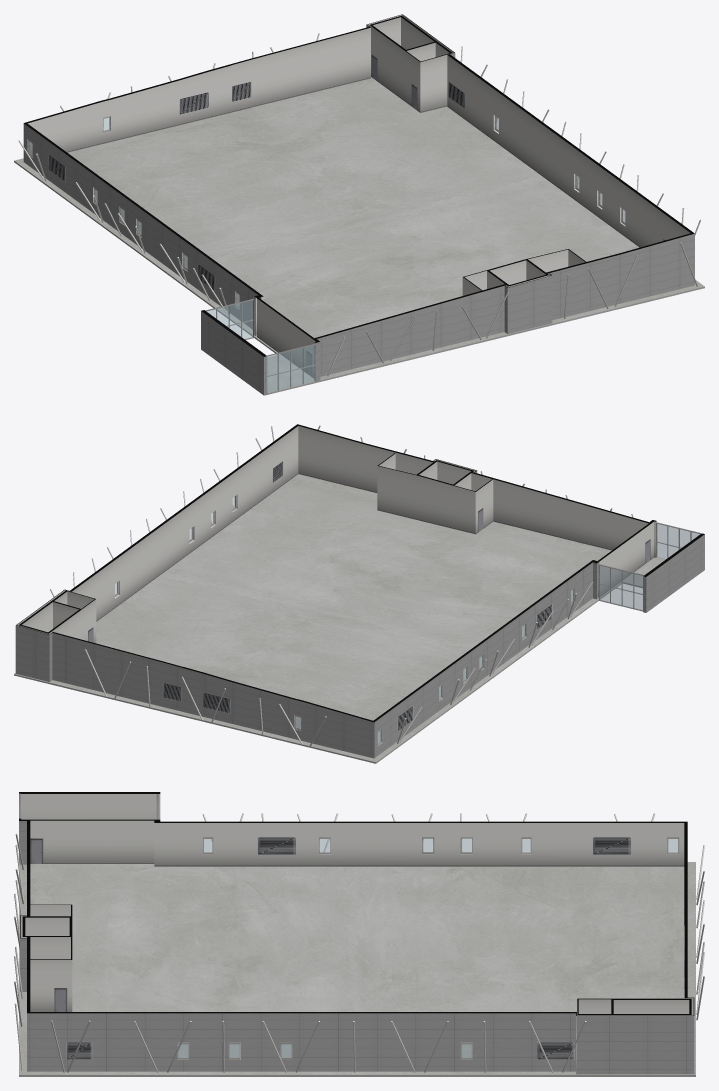
The picture shows the model from 3 angles, top to bottom: view 1: azimuth 30°, elevation 25°; view 2: azimuth 150°, elevation 25°; view 3: azimuth 270°, elevation 25°; orthographic projection. The views are drawn at different scales.
Parts seen in each view (by area): view 1: Line035, Box922, F&F-4F, Line175, Box992; view 2: Line035, Box922, F&F-4F, Line175, Box992; view 3: Line035, Box922, Line175, Box992, F&F-4F, Box970.
Boxes of the visible parts, x1,y1,x2,y2 form: Line035: [14, 77, 704, 394]; Box922: [23, 14, 694, 395]; F&F-4F: [27, 116, 625, 394]; Line175: [18, 33, 700, 376]; Box992: [48, 81, 664, 291]; Line035: [14, 474, 665, 763]; Box922: [15, 424, 704, 758]; F&F-4F: [115, 495, 702, 745]; Line175: [49, 425, 633, 746]; Box992: [163, 461, 552, 731]; Line035: [19, 862, 695, 1076]; Box922: [19, 792, 694, 1074]; Line175: [14, 813, 704, 1072]; Box992: [66, 837, 684, 1059]; F&F-4F: [19, 793, 679, 1060]; Box970: [30, 838, 67, 1011].
Bounding box in the file's own units: 45.38 × 5.3 × 53.6.
Materials: 8 (7 with a texture image).
